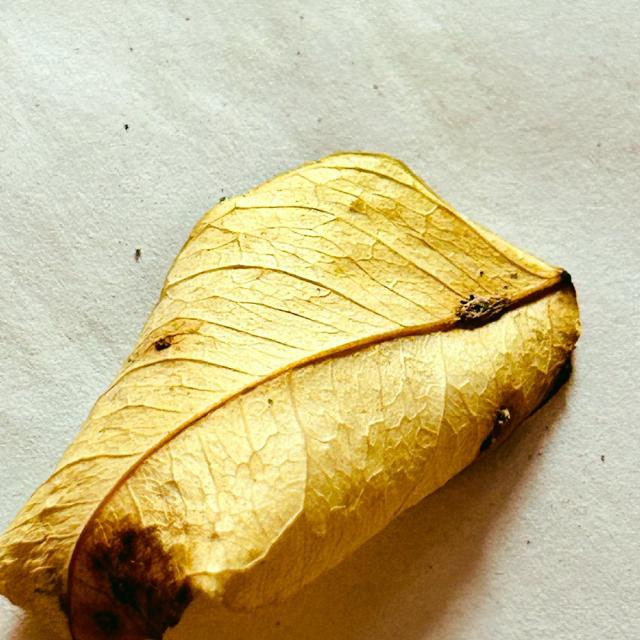DryLeaf_Lemon: (0, 153, 579, 639)
